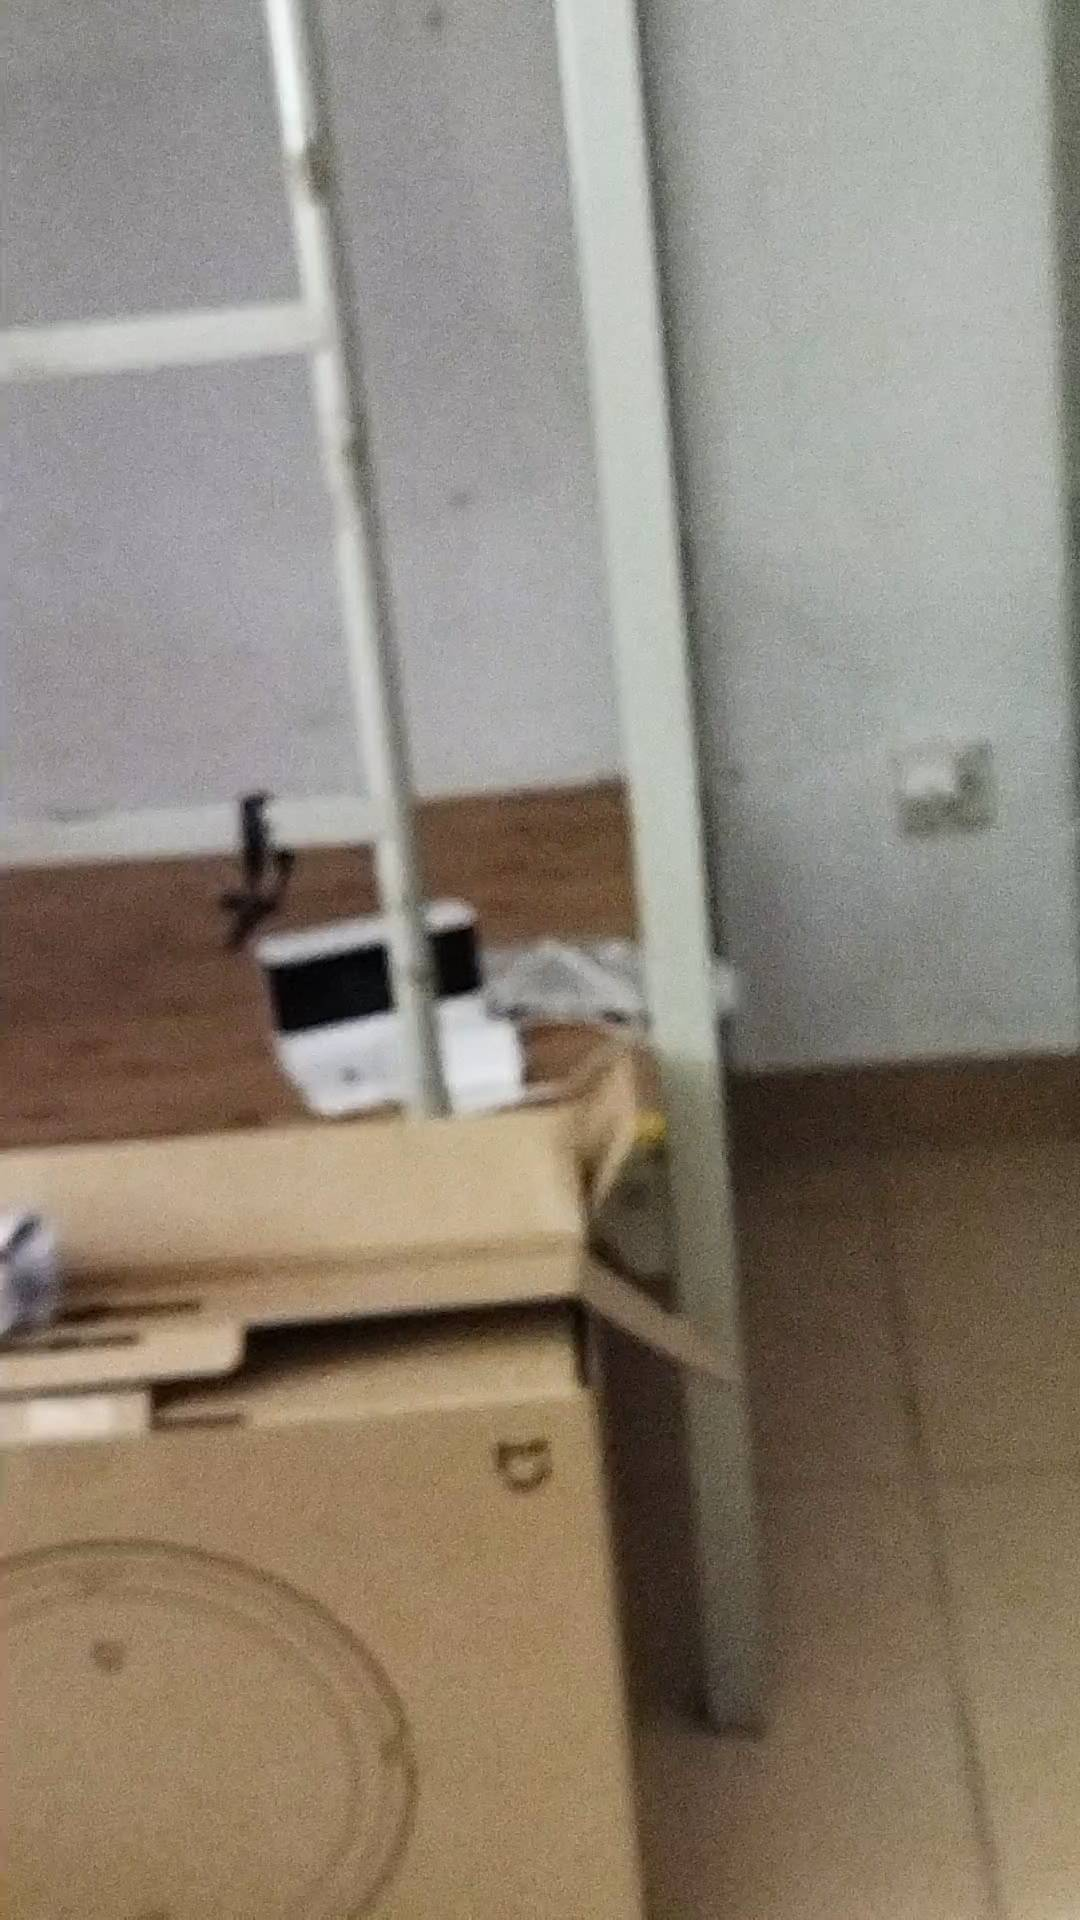recharge seat: (258, 894, 496, 1116)
